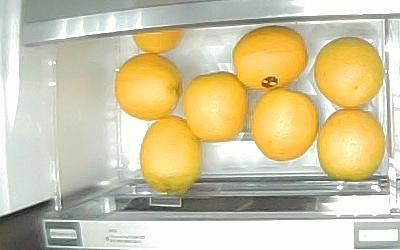orange: (250, 87, 319, 161), (314, 36, 384, 108), (140, 115, 203, 194), (317, 109, 385, 180), (233, 26, 309, 89), (114, 52, 183, 120), (183, 72, 248, 142), (133, 29, 184, 52)
